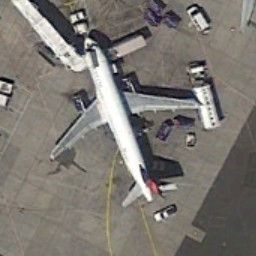Airplane: (42, 33, 204, 215)
